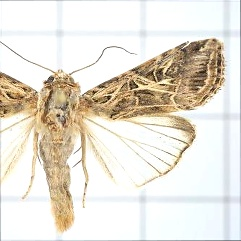Spodoptera litura: (0, 38, 226, 234)
